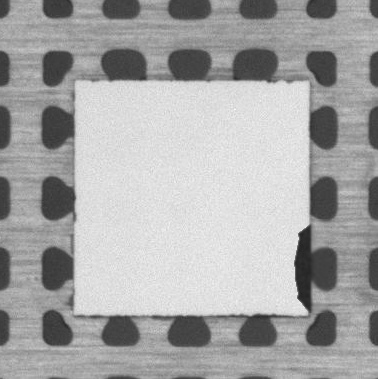DIE_BROKEN: (293, 223, 313, 309)
